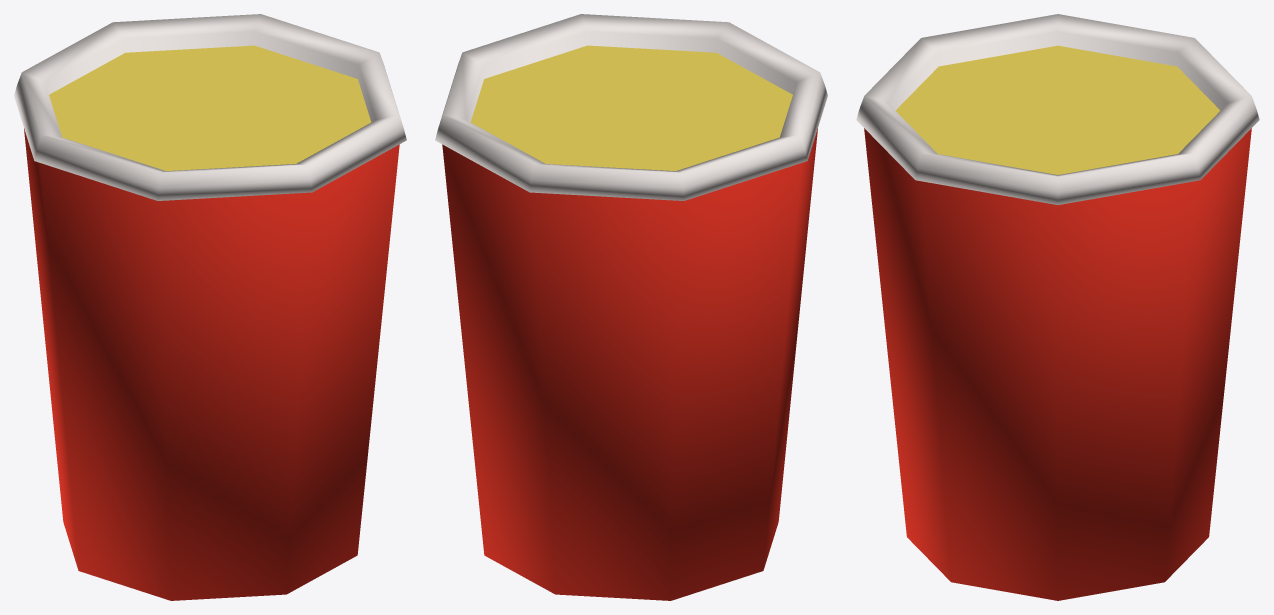
The model's file is cup.glb.
3 views of the same model, side by side, from view 1: azimuth 30°, elevation 25°; view 2: azimuth 150°, elevation 25°; view 3: azimuth 270°, elevation 25° (orthographic).
Parts seen in each view (by area): view 1: Cup, Fill; view 2: Cup, Fill; view 3: Cup, Fill.
Boxes of the visible parts, box(x1,y1,x2,y2) form: Cup: box(14, 14, 406, 600); Fill: box(49, 45, 371, 171); Cup: box(435, 14, 827, 600); Fill: box(470, 45, 792, 171); Cup: box(856, 14, 1259, 600); Fill: box(895, 45, 1220, 174).
Bounding box in the file's own units: 2.06 × 2.49 × 2.06.
